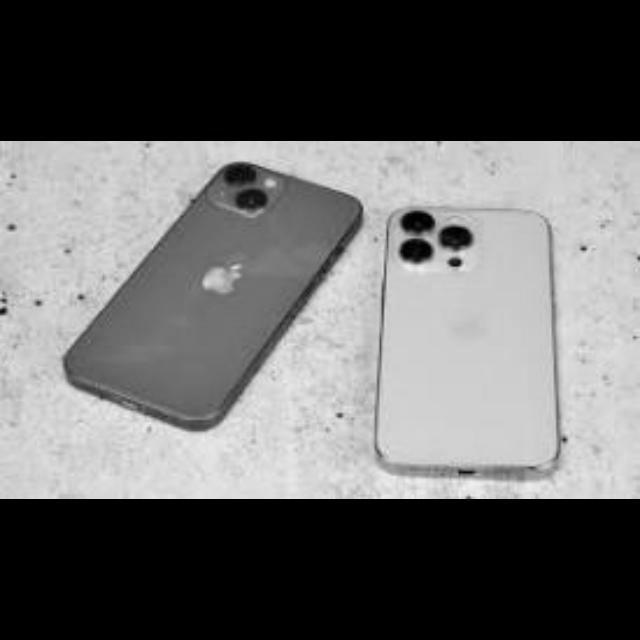fake: (42, 152, 354, 434), (381, 188, 557, 472)
